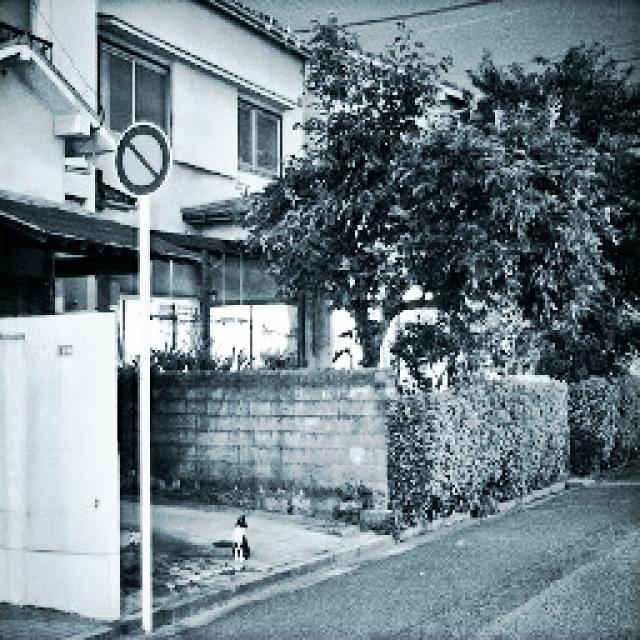cat: (209, 503, 264, 577)
